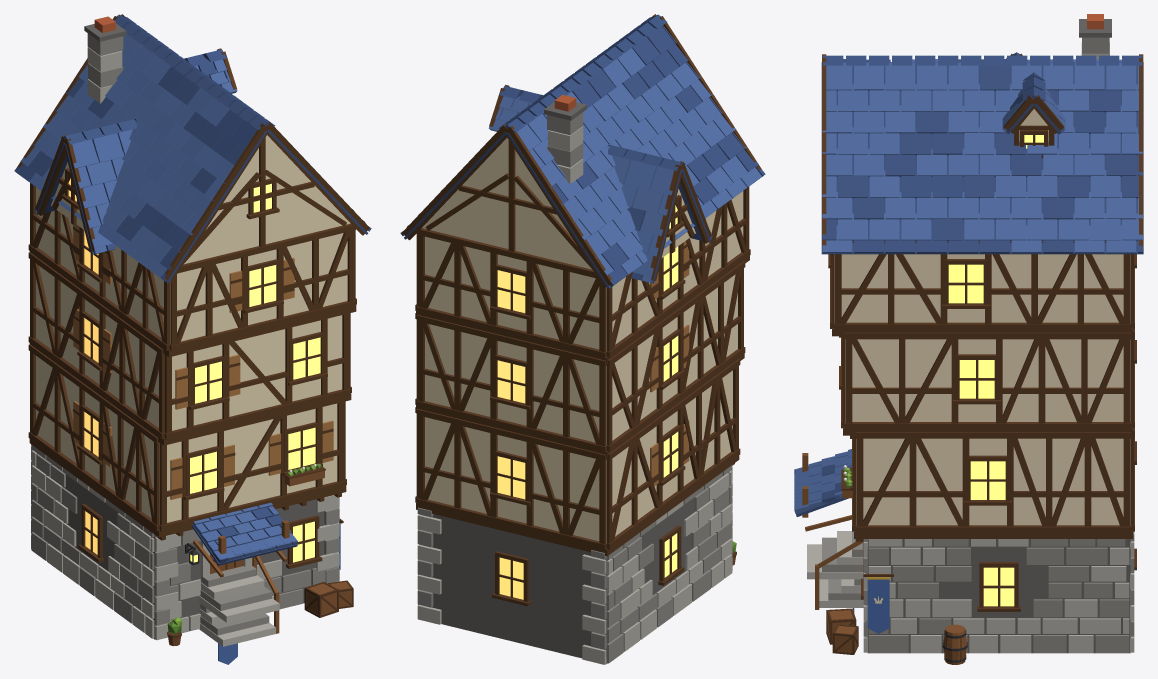
Rendered from Pack_Townhouse.fbx.
3 views of the same model, side by side, from view 1: azimuth 30°, elevation 25°; view 2: azimuth 150°, elevation 25°; view 3: azimuth 270°, elevation 25° (orthographic). The views are drawn at different scales.
Parts seen in each view (by area): view 1: Pack_Townhouse_LOD0; view 2: Pack_Townhouse_LOD0; view 3: Pack_Townhouse_LOD0.
Boxes of the visible parts, left/top/right/bottom form: Pack_Townhouse_LOD0: left=14, top=14, right=371, bottom=664; Pack_Townhouse_LOD0: left=400, top=14, right=765, bottom=664; Pack_Townhouse_LOD0: left=794, top=14, right=1143, bottom=664.
Size of what is drawn, in the model's own units: 6.48 by 15.32 by 7.97.
